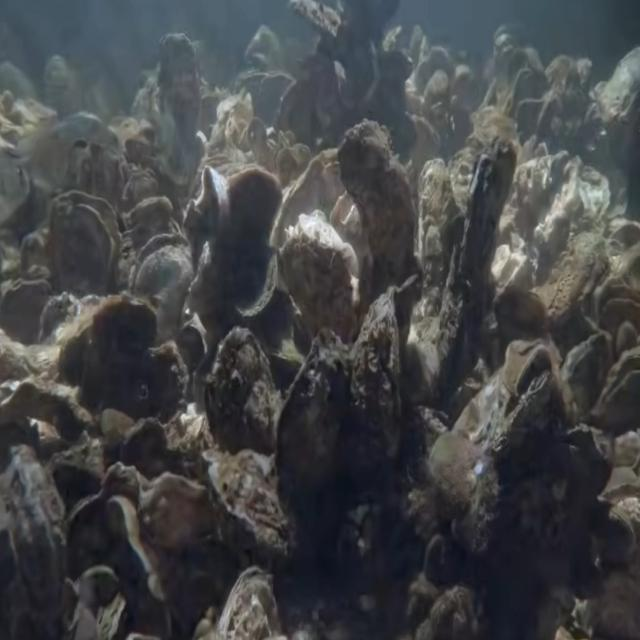Oyster-Closed: (338, 119, 416, 289), (201, 447, 294, 567), (215, 565, 282, 640), (0, 273, 52, 342)
Oyster-Indeterminate: (439, 136, 517, 364), (274, 323, 355, 518), (0, 442, 65, 638), (457, 343, 556, 463), (276, 209, 360, 347), (56, 298, 159, 406), (344, 287, 404, 468), (224, 162, 282, 326), (204, 326, 276, 456), (49, 188, 122, 299), (528, 230, 612, 324), (416, 157, 459, 322), (135, 340, 188, 425), (559, 331, 613, 414)
Oyster-Open: (130, 230, 196, 341), (185, 162, 228, 266), (591, 347, 640, 424)
